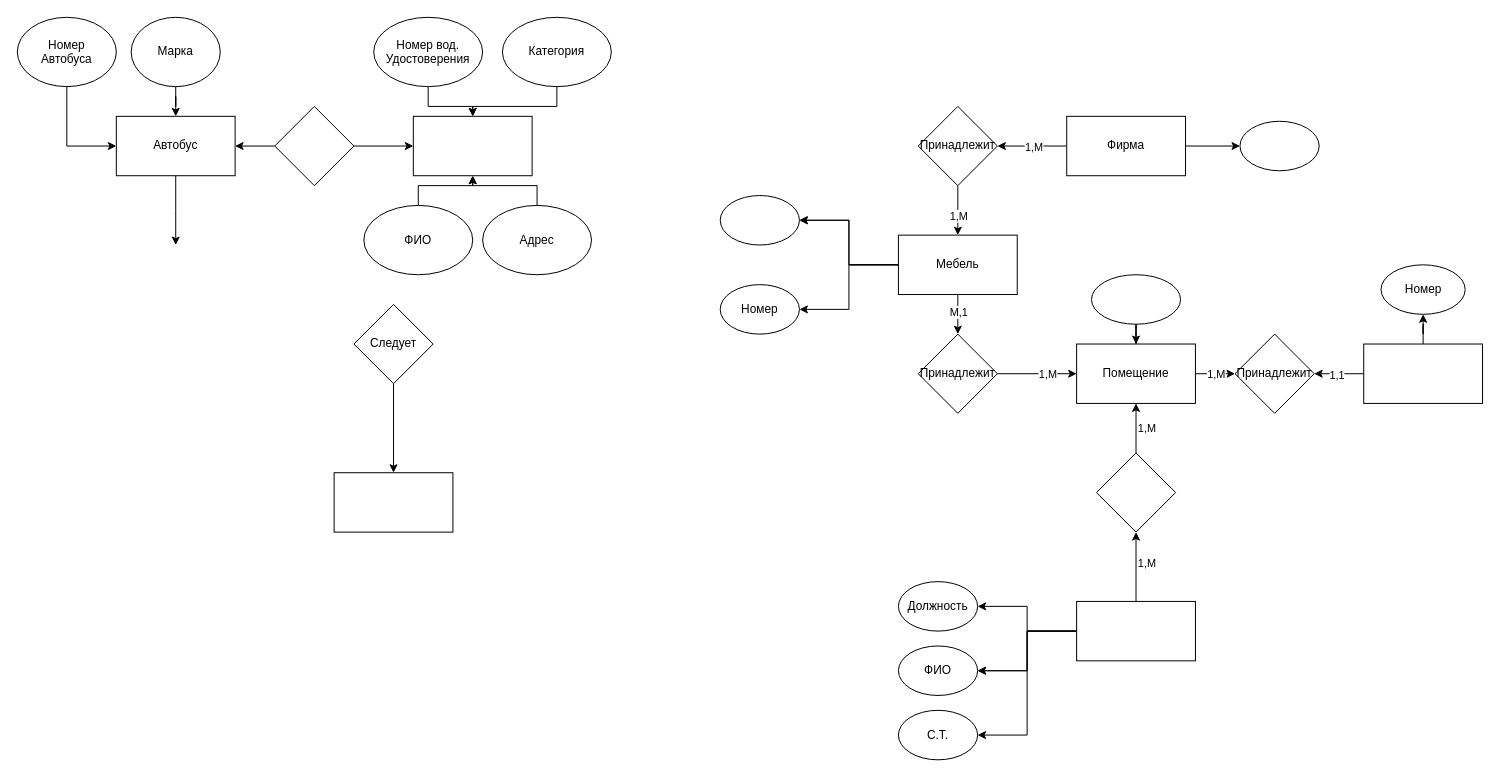
Image size: 1500x777. Some labels were removed from this diagram. Here are the shapes that lost their labels. From the top down, the box of each, then its label:
(274, 105, 354, 186): Управляется
(412, 115, 532, 176): Водитель
(1239, 120, 1319, 171): Номер Корпума
(719, 195, 799, 245): Цена
(1090, 274, 1181, 324): Номер помещения
(1363, 343, 1483, 403): Корпус
(333, 472, 453, 532): Маршрут
(1095, 452, 1176, 532): Отвечает
(1076, 600, 1195, 661): Сотрудник
